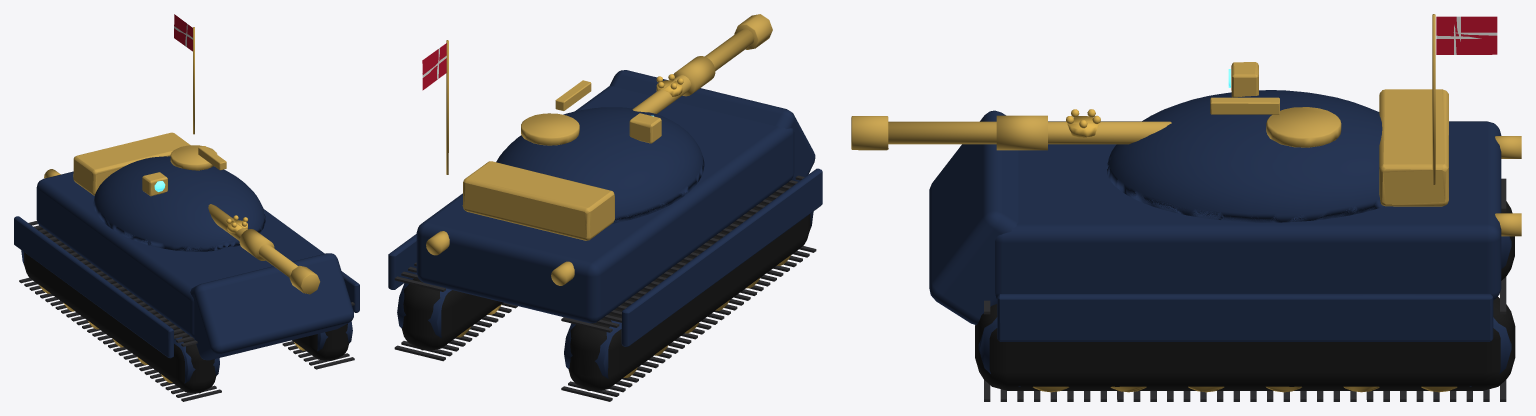
The model's file is kampvogn_kbh.glb.
3 renders of one model, left to right at view 1: azimuth 30°, elevation 25°; view 2: azimuth 150°, elevation 25°; view 3: azimuth 270°, elevation 25°, orthographic. The views are drawn at different scales.
Visible parts, largest first — view 1: krop_net; view 2: krop_net; view 3: krop_net.
Boxes of the visible parts, x1,y1,x2,y2 form: krop_net: (14,14,359,401); krop_net: (388,14,822,401); krop_net: (851,14,1521,401).
Bounding box in the file's own units: 1.17 × 1.37 × 2.23.
